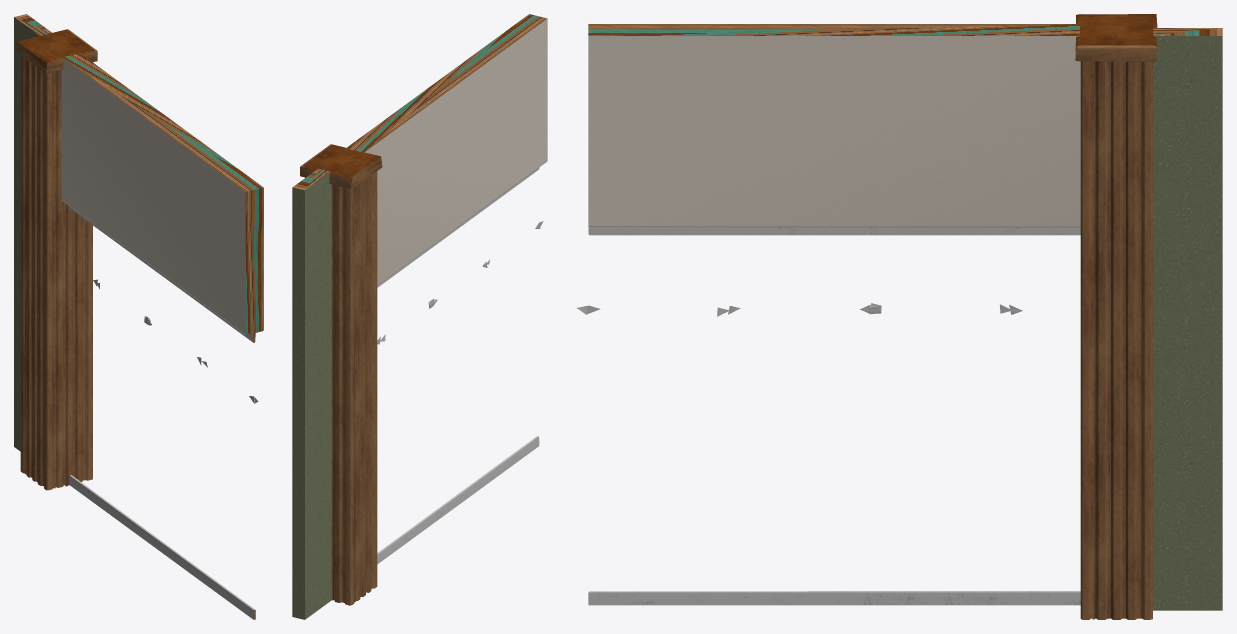
Rendered from SM_Office_Wall01ac.fbx.
3 views of the same model, side by side, from view 1: azimuth 30°, elevation 25°; view 2: azimuth 150°, elevation 25°; view 3: azimuth 270°, elevation 25° (orthographic). The views are drawn at different scales.
Visible parts, largest first — view 1: SM_Office_Wall01ac_LOD0; view 2: SM_Office_Wall01ac_LOD0; view 3: SM_Office_Wall01ac_LOD0.
Boxes of the visible parts, x1=… form: SM_Office_Wall01ac_LOD0: x1=14, y1=14, x2=263, y2=619; SM_Office_Wall01ac_LOD0: x1=292, y1=14, x2=547, y2=619; SM_Office_Wall01ac_LOD0: x1=577, y1=14, x2=1222, y2=619.
Size of the model in its own units: 57.53 by 459 by 452.
